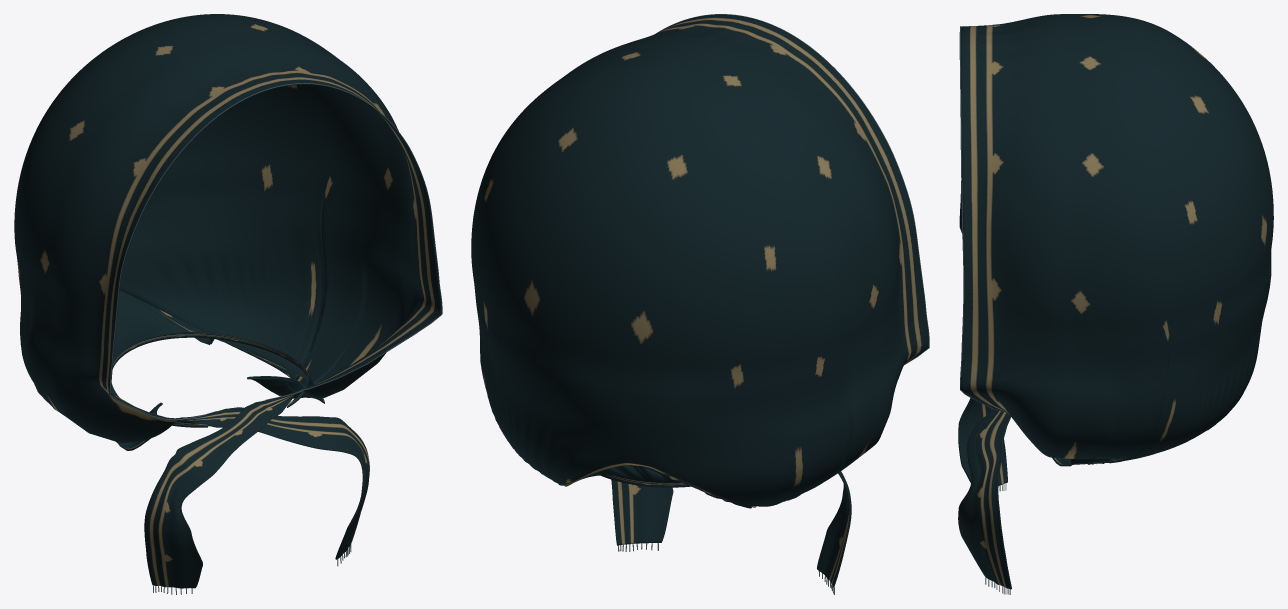
File: Feminine-Feminine-ponytail-tshirt-pashmina251-headgear-bd01fb6c.glb
The picture shows the model from 3 angles, left to right: view 1: azimuth 30°, elevation 25°; view 2: azimuth 150°, elevation 25°; view 3: azimuth 270°, elevation 25°; orthographic projection. The views are drawn at different scales.
Visible parts, largest first — view 1: 226 headgear / Headwear / continuous woven pashmina239, 226 headgear / Headwear / face edge239; view 2: 226 headgear / Headwear / continuous woven pashmina239, 226 headgear / Headwear / face edge239; view 3: 226 headgear / Headwear / continuous woven pashmina239, 226 headgear / Headwear / face edge239.
Boxes of the visible parts, x1,y1,x2,y2 form: 226 headgear / Headwear / continuous woven pashmina239: [14, 14, 441, 588]; 226 headgear / Headwear / face edge239: [110, 83, 442, 420]; 226 headgear / Headwear / continuous woven pashmina239: [471, 14, 928, 587]; 226 headgear / Headwear / face edge239: [655, 14, 929, 364]; 226 headgear / Headwear / continuous woven pashmina239: [958, 14, 1273, 589]; 226 headgear / Headwear / face edge239: [959, 26, 1006, 412].
Size of the model in its own units: 0.8667 by 1.22 by 0.6748.
Materials: 3 (1 with a texture image).
